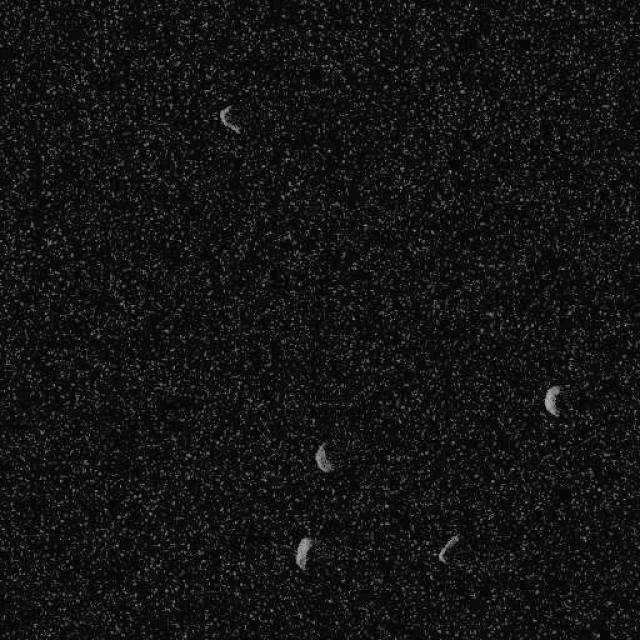D2: (436, 533, 460, 565), (294, 535, 314, 571), (218, 104, 242, 134), (542, 383, 562, 418), (314, 441, 334, 474)
